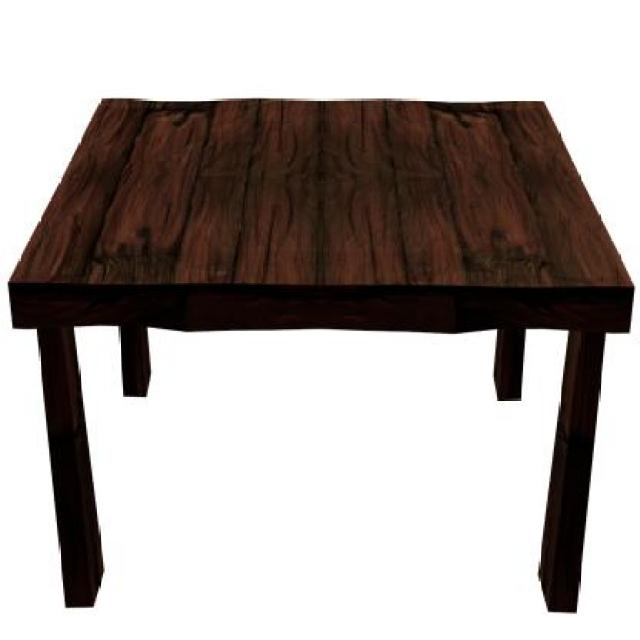table: (9, 93, 634, 609)
